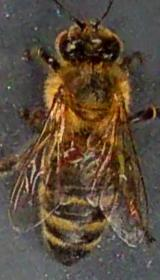varroa_mite: (54, 138, 94, 174)
